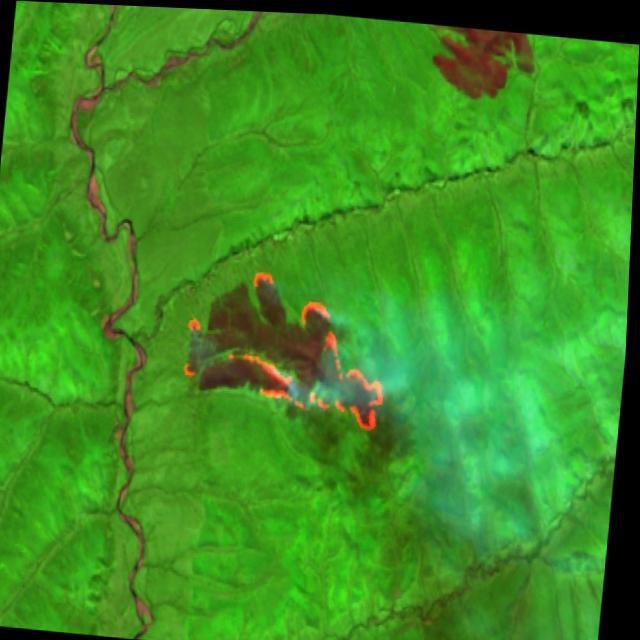fire: (178, 259, 400, 431)
